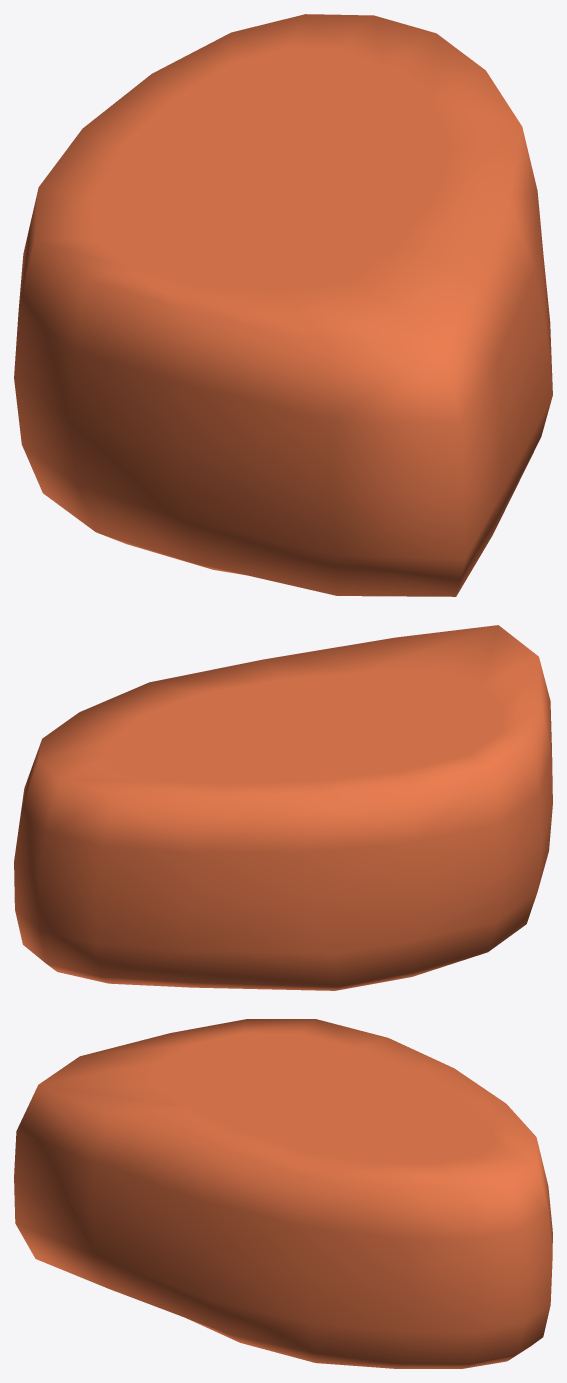
File: OddStone2.fbx
3 views of the same model, one above another, from view 1: azimuth 30°, elevation 25°; view 2: azimuth 150°, elevation 25°; view 3: azimuth 270°, elevation 25° (orthographic). The views are drawn at different scales.
Visible parts, largest first — view 1: Weird2.001; view 2: Weird2.001; view 3: Weird2.001.
Part boxes in pixels (<box>): Weird2.001: <box>14,14,552,596</box>; Weird2.001: <box>14,625,552,990</box>; Weird2.001: <box>14,1019,552,1368</box>.
Bounding box in the file's own units: 7.67 × 2.85 × 6.12.
